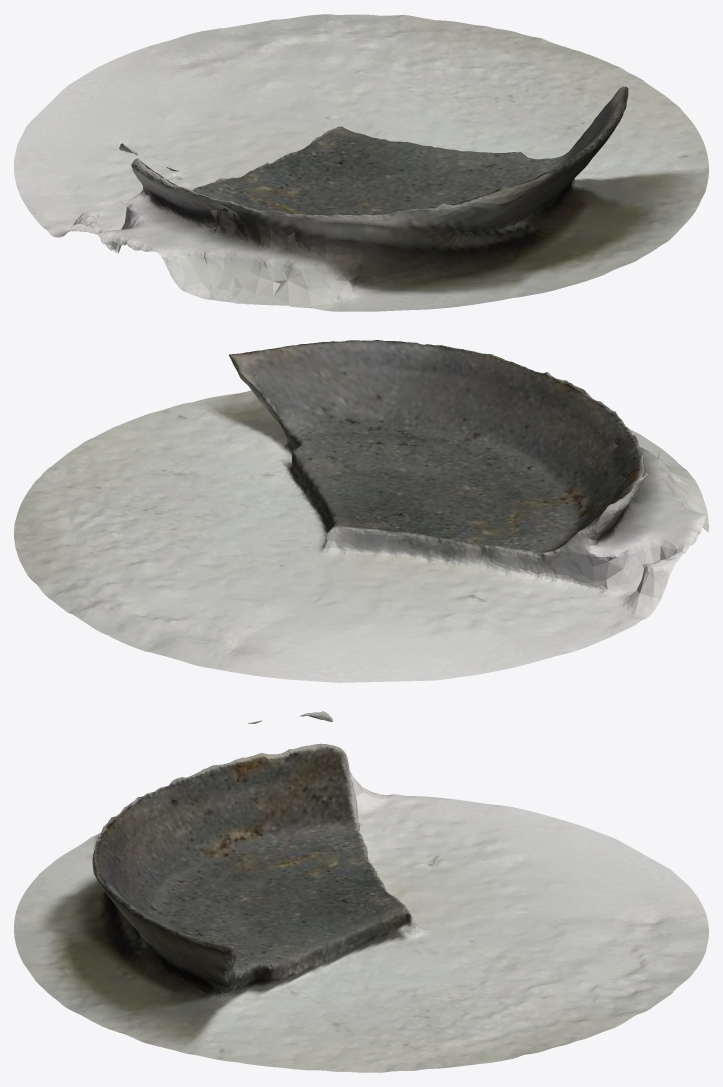
Rendered from model02_small.glb.
The picture shows the model from 3 angles, top to bottom: view 1: azimuth 30°, elevation 25°; view 2: azimuth 150°, elevation 25°; view 3: azimuth 270°, elevation 25°; orthographic projection. The views are drawn at different scales.
Visible parts, largest first — view 1: mesh; view 2: mesh; view 3: mesh.
Boxes of the visible parts, <box> form: mesh: <box>14,14,708,311</box>; mesh: <box>14,340,708,682</box>; mesh: <box>14,711,708,1072</box>.
Size of the model in its own units: 0.2182 by 0.037 by 0.2253.
1 material, 1 textured.
